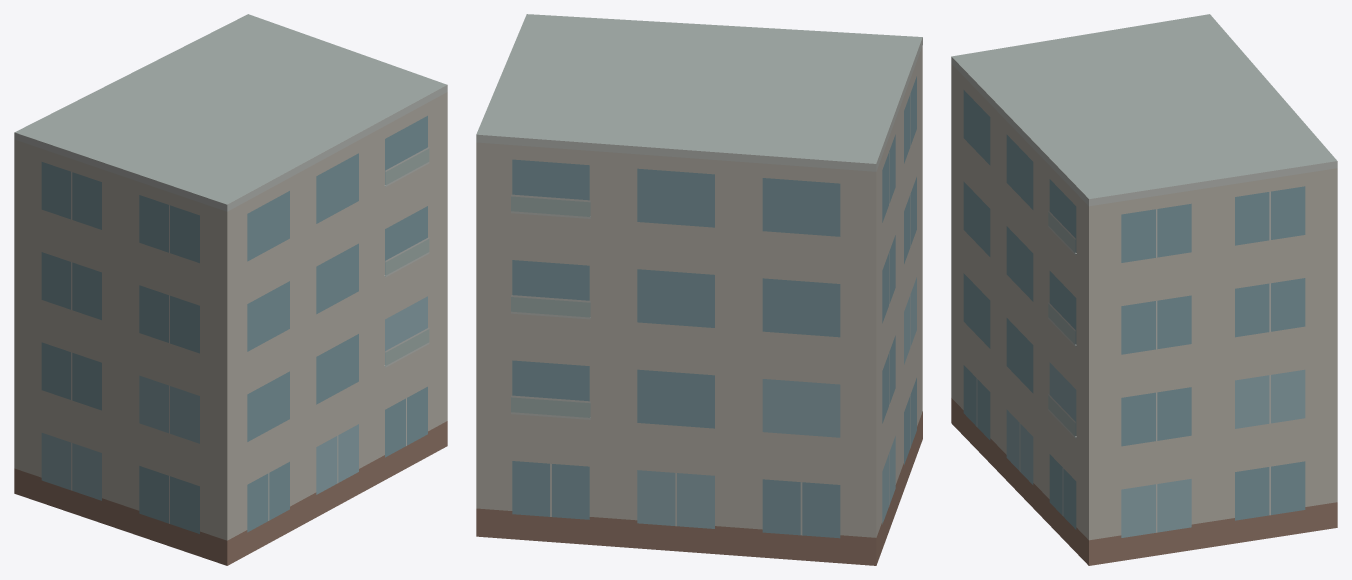
The model's file is survey-upis-32465947.glb.
3 renders of one model, left to right at view 1: azimuth 30°, elevation 25°; view 2: azimuth 150°, elevation 25°; view 3: azimuth 270°, elevation 25°, orthographic. The views are drawn at different scales.
Parts seen in each view (by area): view 1: survey-upis-32465947.tmp; view 2: survey-upis-32465947.tmp; view 3: survey-upis-32465947.tmp.
Part boxes in pixels (<box>): survey-upis-32465947.tmp: <box>14,14,447,565</box>; survey-upis-32465947.tmp: <box>476,14,922,565</box>; survey-upis-32465947.tmp: <box>951,14,1337,565</box>.
Size of the model in its own units: 13.54 by 12.5 by 11.94.
